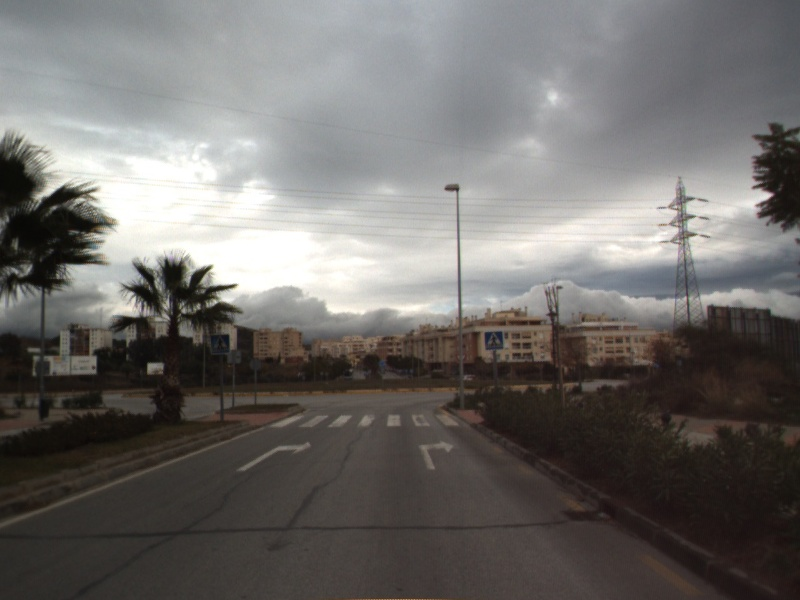RIGHT: (234, 440, 314, 473), (417, 438, 456, 472)
